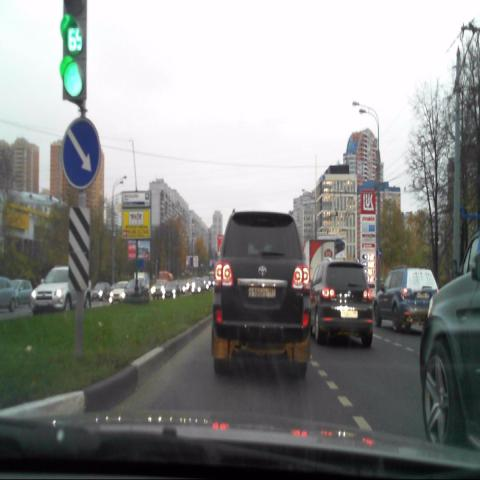4_2_1: (62, 117, 101, 191)
